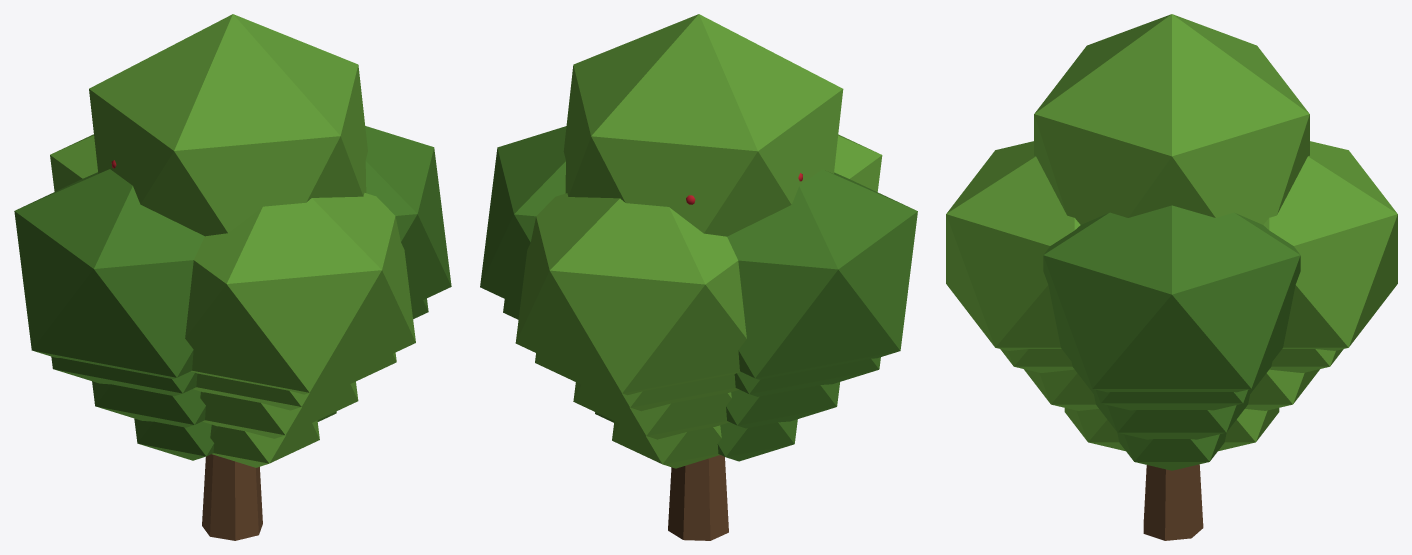
File: Crop_Crop_CoffeeCherry.fbx
3 views of the same model, side by side, from view 1: azimuth 30°, elevation 25°; view 2: azimuth 150°, elevation 25°; view 3: azimuth 270°, elevation 25° (orthographic).
Parts seen in each view (by area): view 1: Crop_Crop_CoffeeCherry__S4, Crop_Crop_CoffeeCherry__S2, Crop_Crop_CoffeeCherry__S3, Crop_Crop_CoffeeCherry__S1; view 2: Crop_Crop_CoffeeCherry__S4, Crop_Crop_CoffeeCherry__S2, Crop_Crop_CoffeeCherry__S3, Crop_Crop_CoffeeCherry__S1; view 3: Crop_Crop_CoffeeCherry__S4, Crop_Crop_CoffeeCherry__S2, Crop_Crop_CoffeeCherry__S3, Crop_Crop_CoffeeCherry__S1.
Boxes of the visible parts, box(x1,y1,x2,y2) form: Crop_Crop_CoffeeCherry__S4: box(14, 14, 451, 540); Crop_Crop_CoffeeCherry__S2: box(92, 381, 358, 438); Crop_Crop_CoffeeCherry__S3: box(51, 298, 428, 410); Crop_Crop_CoffeeCherry__S1: box(134, 411, 336, 467); Crop_Crop_CoffeeCherry__S4: box(480, 14, 917, 540); Crop_Crop_CoffeeCherry__S2: box(573, 382, 839, 439); Crop_Crop_CoffeeCherry__S3: box(503, 299, 880, 411); Crop_Crop_CoffeeCherry__S1: box(595, 412, 797, 468); Crop_Crop_CoffeeCherry__S4: box(946, 14, 1397, 540); Crop_Crop_CoffeeCherry__S2: box(1024, 369, 1319, 439); Crop_Crop_CoffeeCherry__S3: box(1000, 349, 1343, 410); Crop_Crop_CoffeeCherry__S1: box(1064, 408, 1279, 470).
Bounding box in the file's own units: 0.4735 × 0.5775 × 0.46.
